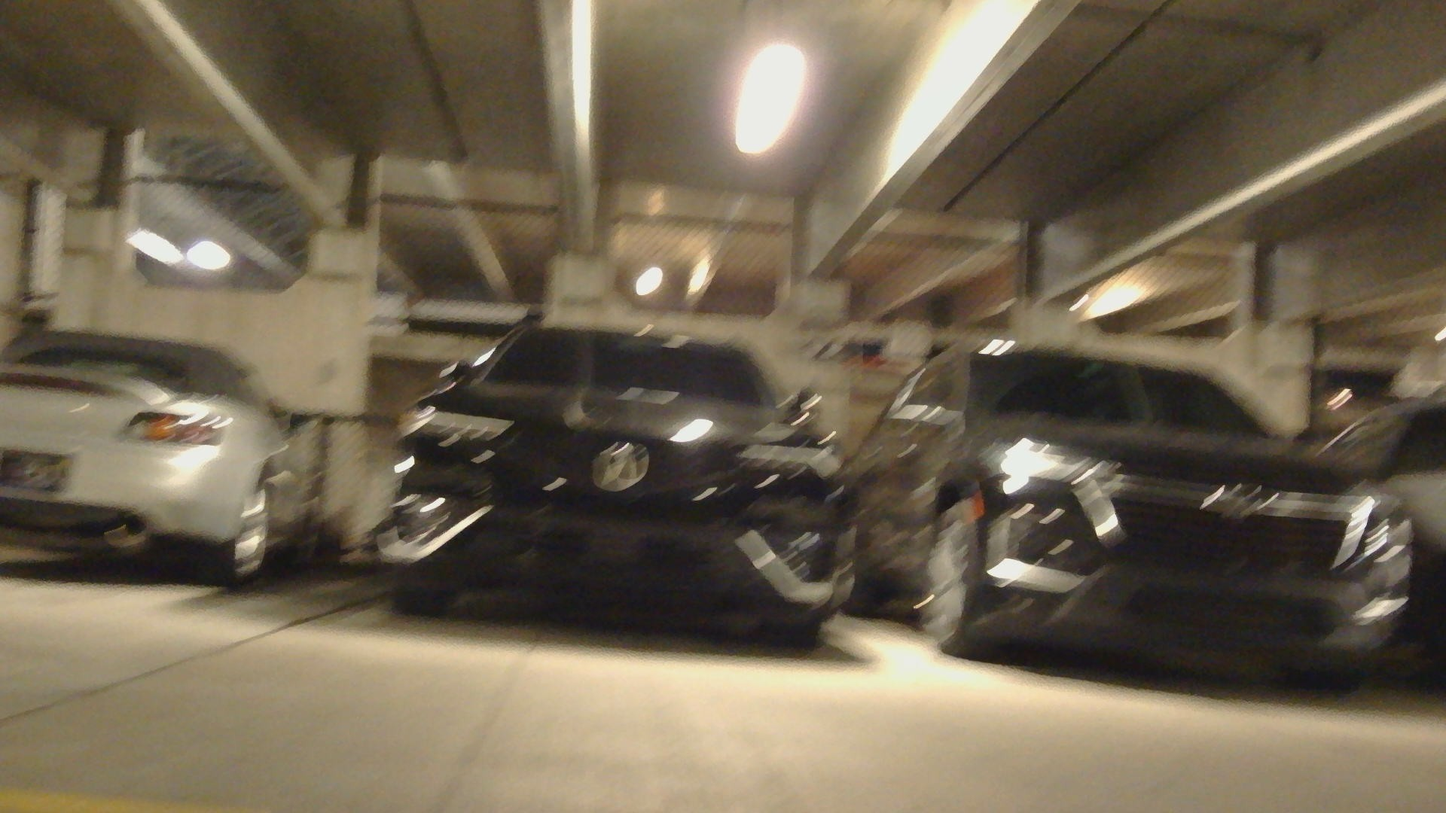occupied_spot: (831, 331, 1434, 711), (366, 304, 878, 652), (0, 319, 331, 592)
